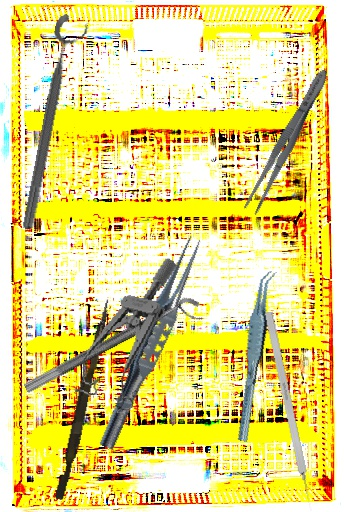Dressing Forceps: (240, 64, 335, 218)
Fixation Ring: (22, 292, 207, 408), (16, 12, 92, 234)
Hook Surgical: (263, 311, 316, 512)
Pusher: (54, 296, 112, 502)
Speculum: (70, 244, 178, 424)
Tissue Forceps: (93, 230, 209, 455), (217, 268, 293, 443)
